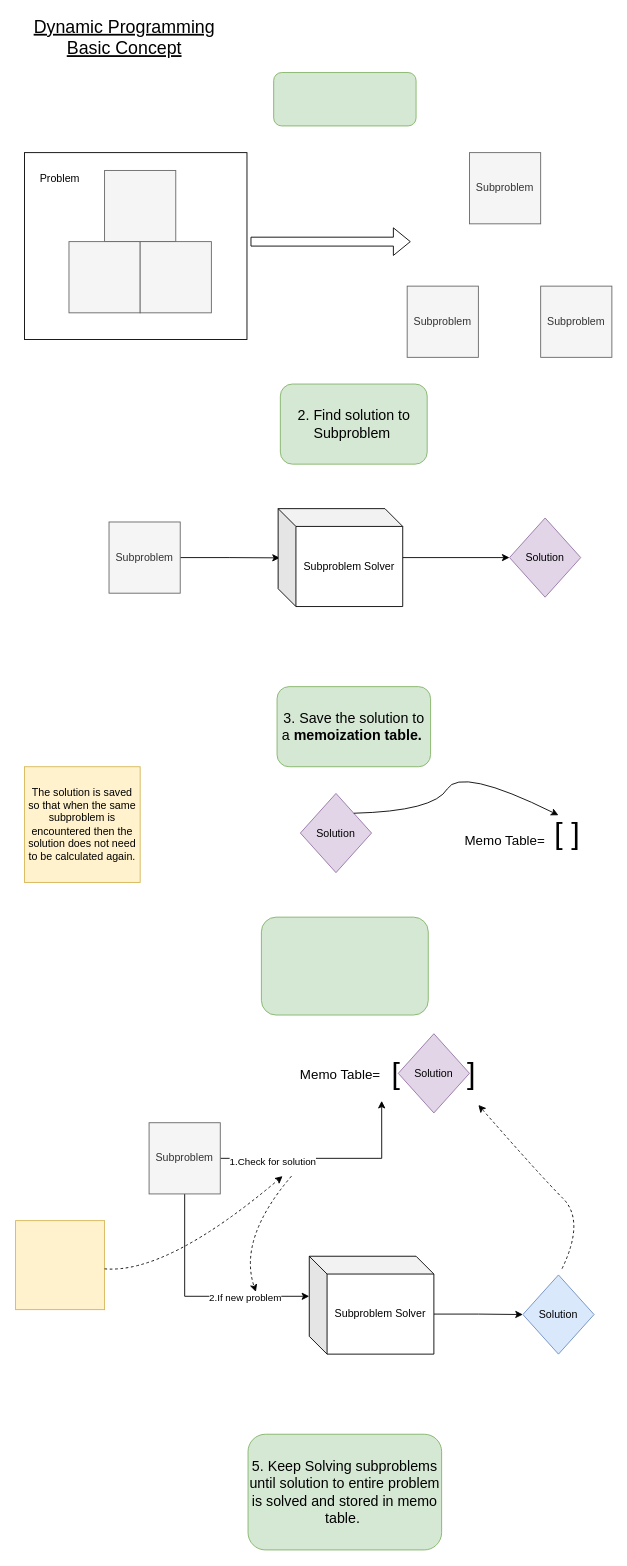
Some shapes in this 627 by 1566 pixel diagram are drawn without their labels. The centre of each missing label's shape, as x and y in pixels:
1. Find reoccuring subproblems.: [344,99]
4. Before solving a further subproblem check memo table for previous solution.: [344,965]
First check for solution in memo table and only if not found then solve it.: [60,1265]
